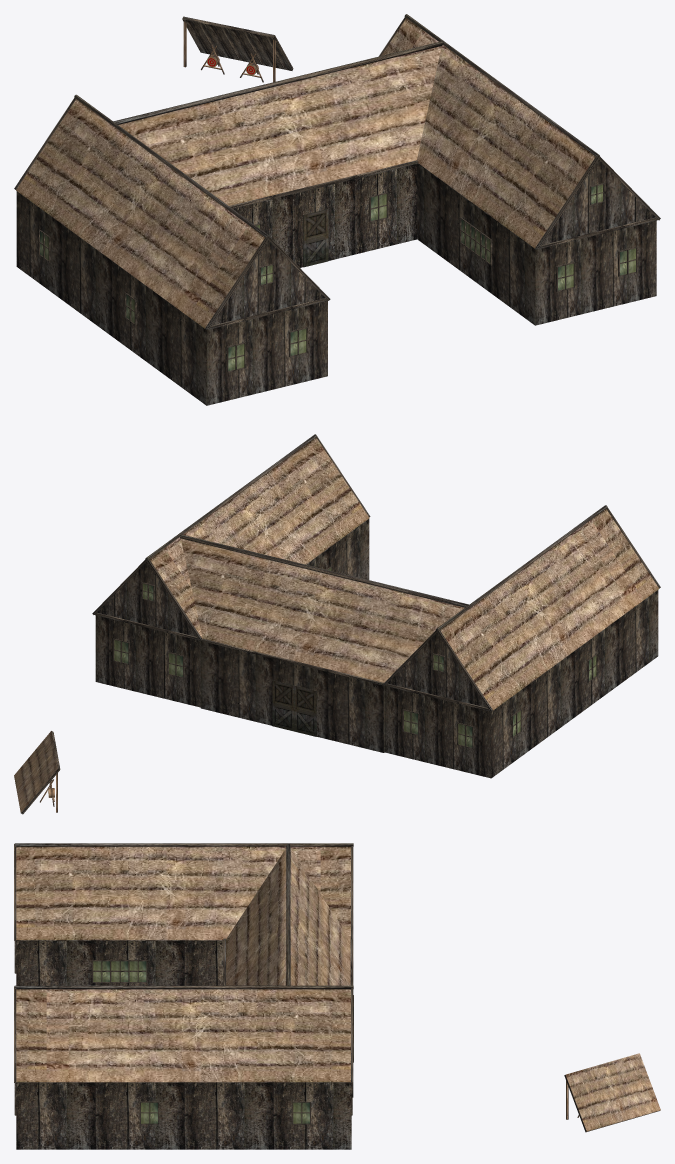
File: MillitaryCamp.FBX
3 views of the same model, one above another, from view 1: azimuth 30°, elevation 25°; view 2: azimuth 150°, elevation 25°; view 3: azimuth 270°, elevation 25° (orthographic). The views are drawn at different scales.
Visible parts, largest first — view 1: Box015, Box007; view 2: Box015, Box007; view 3: Box015, Box007.
Boxes of the visible parts, left/top/right/bottom form: Box015: left=14, top=14, right=660, bottom=405; Box007: left=182, top=16, right=293, bottom=82; Box015: left=92, top=434, right=660, bottom=778; Box007: left=14, top=731, right=60, bottom=814; Box015: left=14, top=843, right=353, bottom=1149; Box007: left=564, top=1053, right=660, bottom=1132.
Bounding box in the file's own units: 935 × 1305 × 310.
7 materials, 6 textured.
